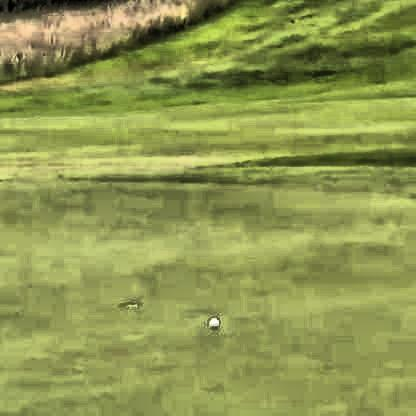golfball: (205, 314, 219, 328)
